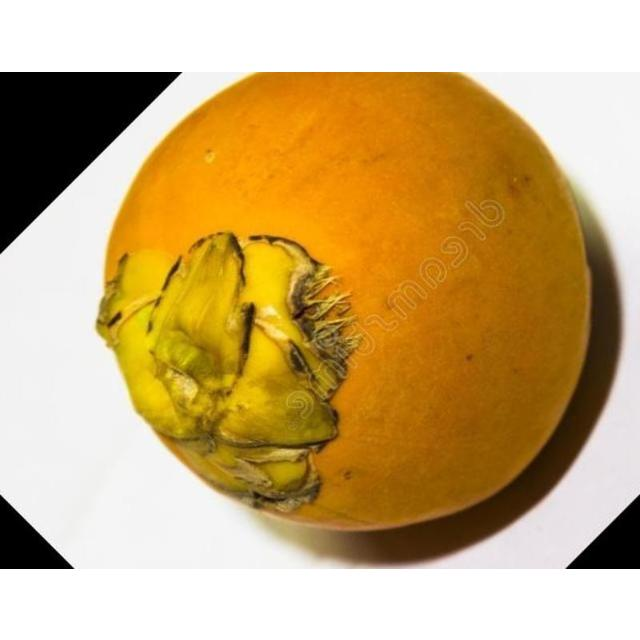good: (94, 71, 592, 536)
